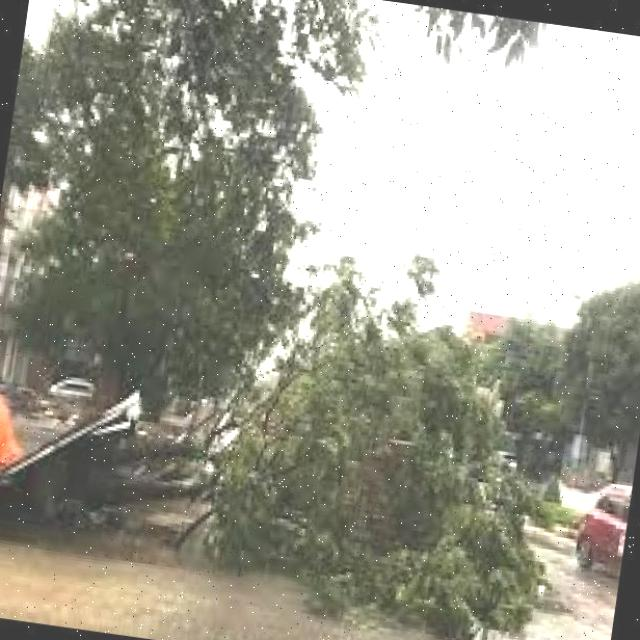fallen_object: (0, 252, 611, 640)
